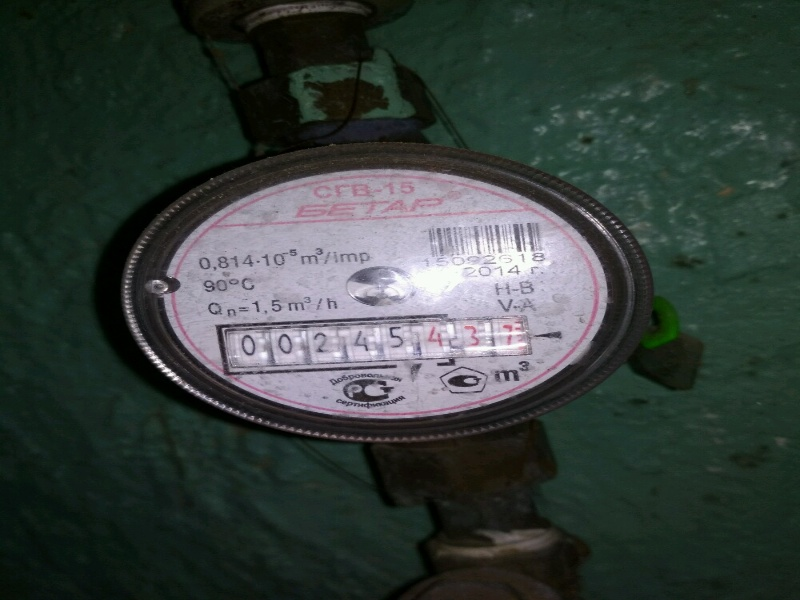meter: (197, 316, 539, 365)
